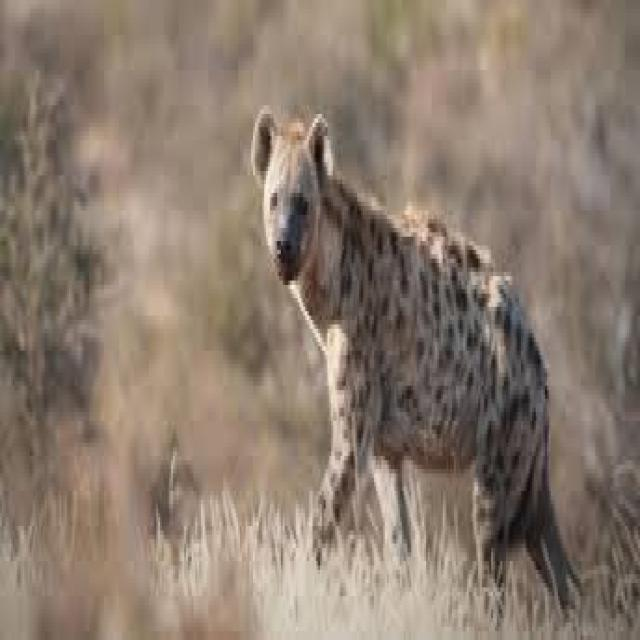Hyena: (246, 99, 570, 606)
